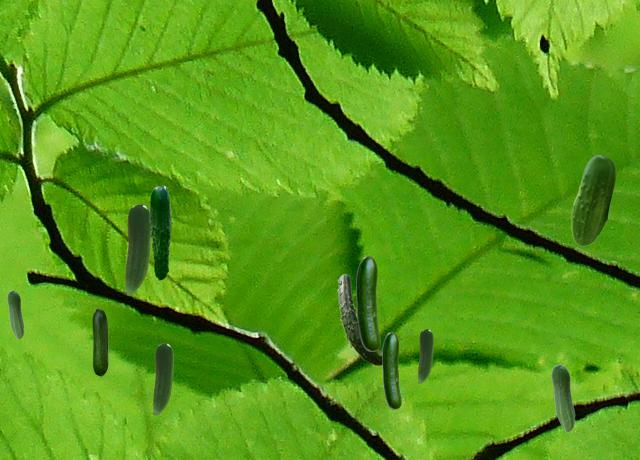cucumber: (337, 274, 381, 364), (571, 155, 614, 245), (125, 204, 150, 294), (356, 256, 379, 350), (149, 185, 171, 279), (551, 364, 574, 431), (382, 332, 400, 408), (153, 343, 172, 414), (92, 308, 107, 375), (7, 290, 23, 338), (418, 329, 432, 382)
